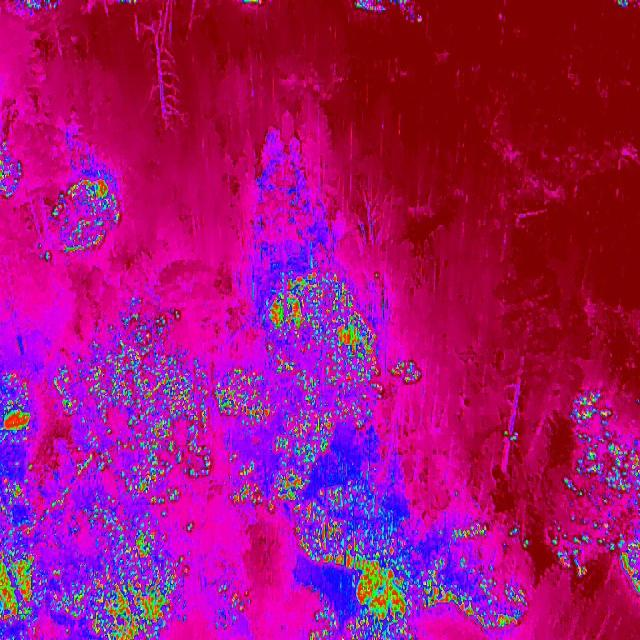fire: (0, 307, 210, 640), (218, 254, 382, 507), (294, 509, 530, 640), (552, 389, 640, 597), (46, 172, 121, 260), (213, 580, 250, 630), (0, 139, 26, 202), (352, 0, 425, 16), (390, 358, 428, 384), (17, 0, 63, 15)
